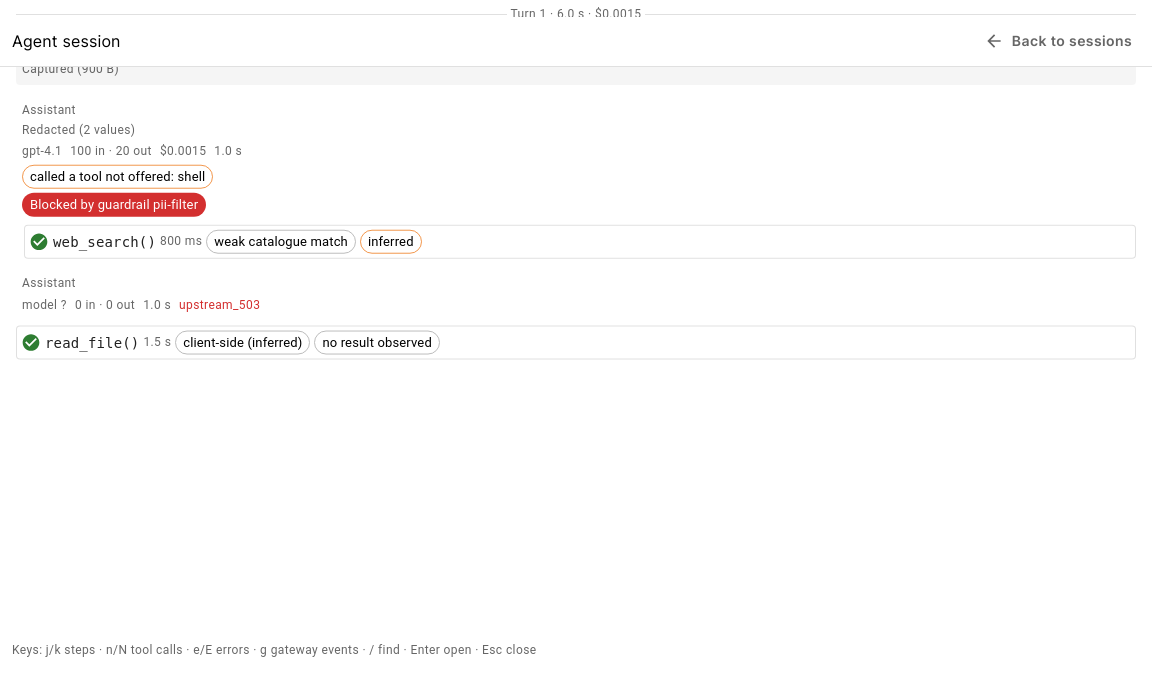
Test: AgentSessionDetail › loads content only when a content tab is shown, and renders redaction chips
(page scrolled)
expect the element with test id "transcript" is shown: met, box [16,7,1136,359]
Press 2
(page scrolled)
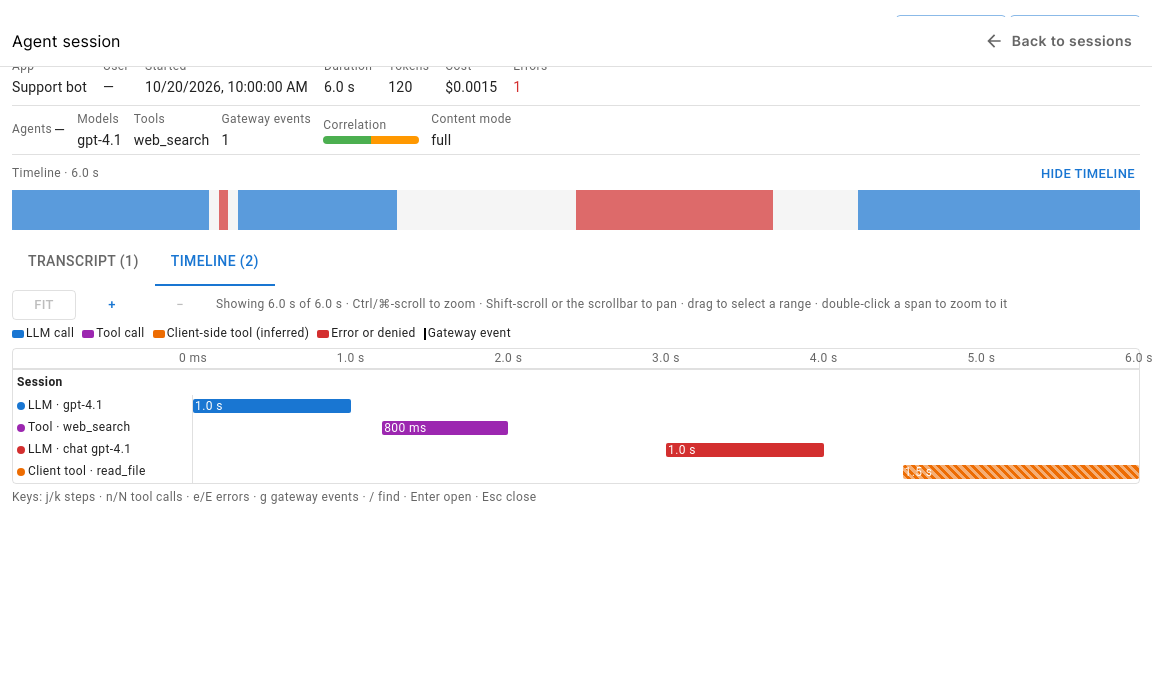
expect the button with test id "timeline-bar" showing "1.5 s" is shown: met, box [902,465,1139,479]
Click the button with test id "timeline-bar" next to "LLM · gpt-4.1" at (272, 406), box [193,399,351,413]
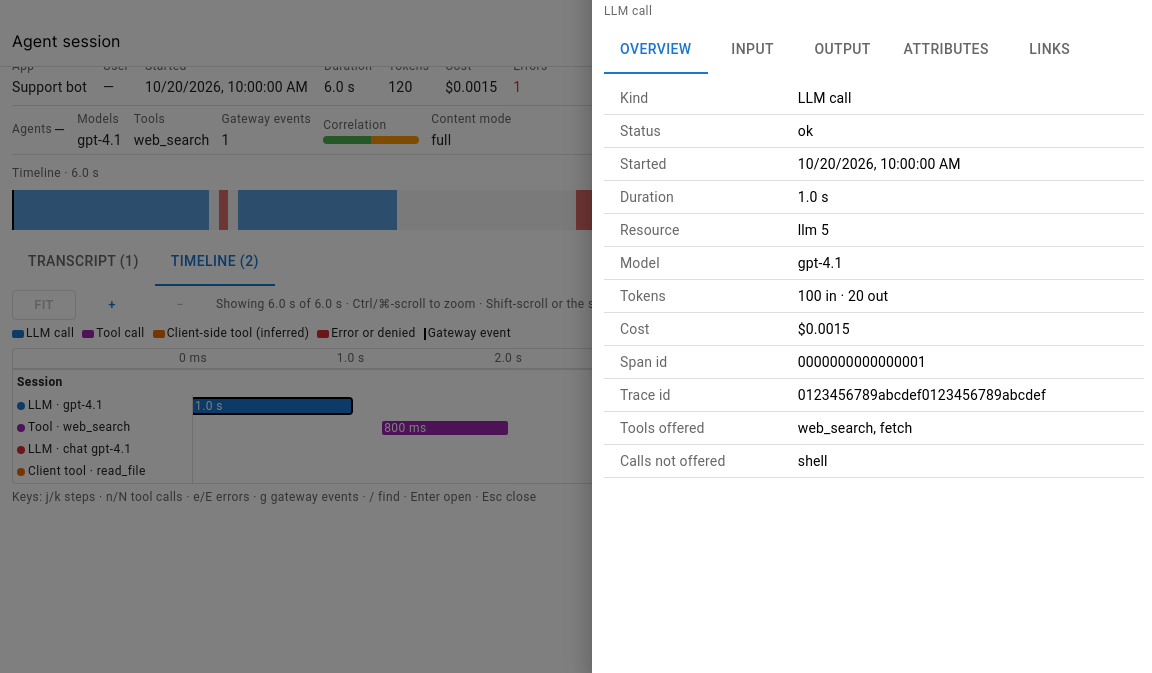
Click the tab "Input" at (753, 50), box [708,26,798,74]
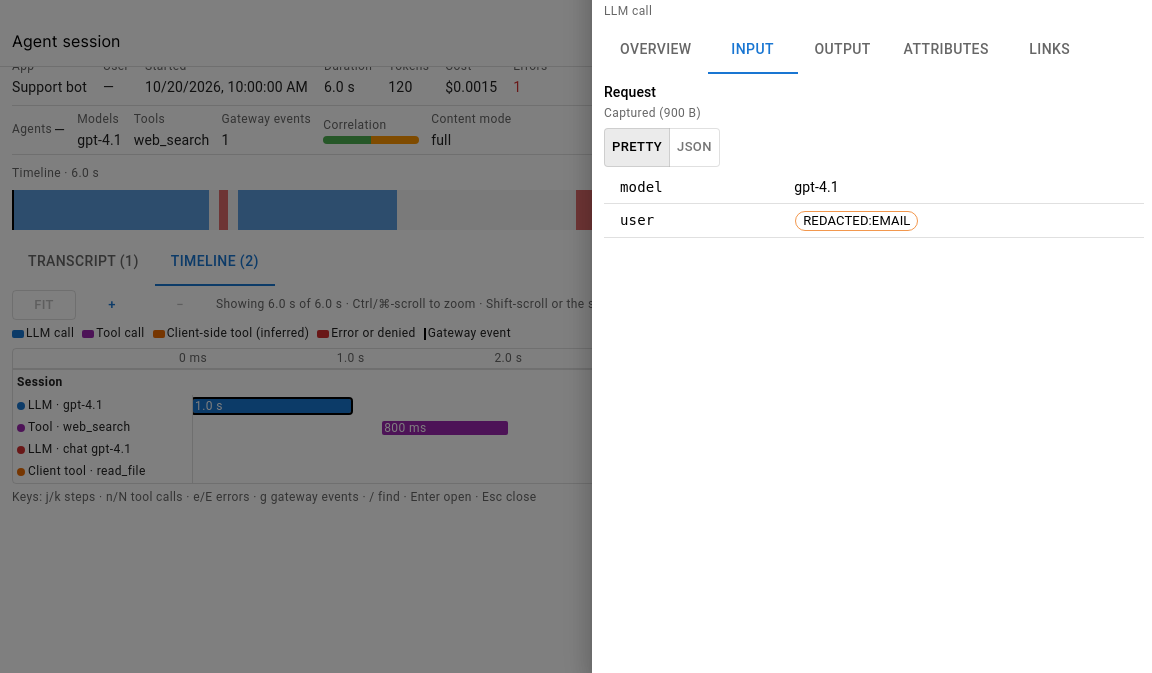
expect the table with test id "kv-table" is shown: met, box [604,170,1144,238]
expect the text "REDACTED:EMAIL" is shown: met, box [796,212,918,230]
Click the button "JSON" at (694, 147), box [669,128,720,167]
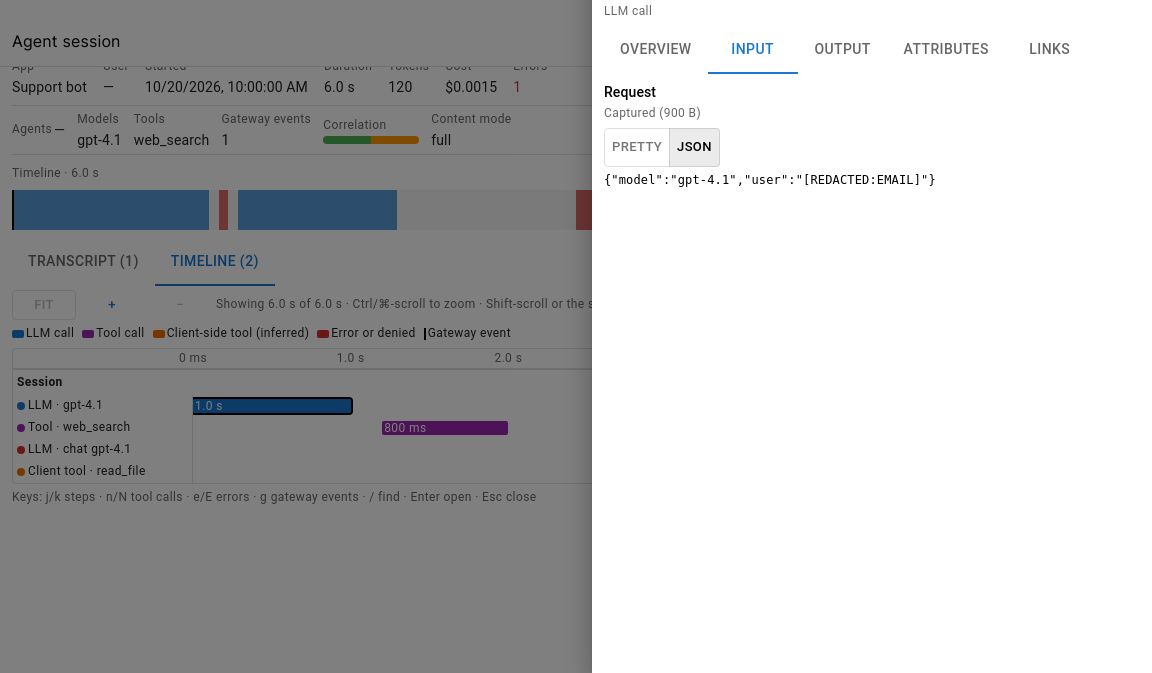
expect the text with test id "raw-view" shows "\"model\":\"gpt-4.1\"": met, box [604,172,936,186]
